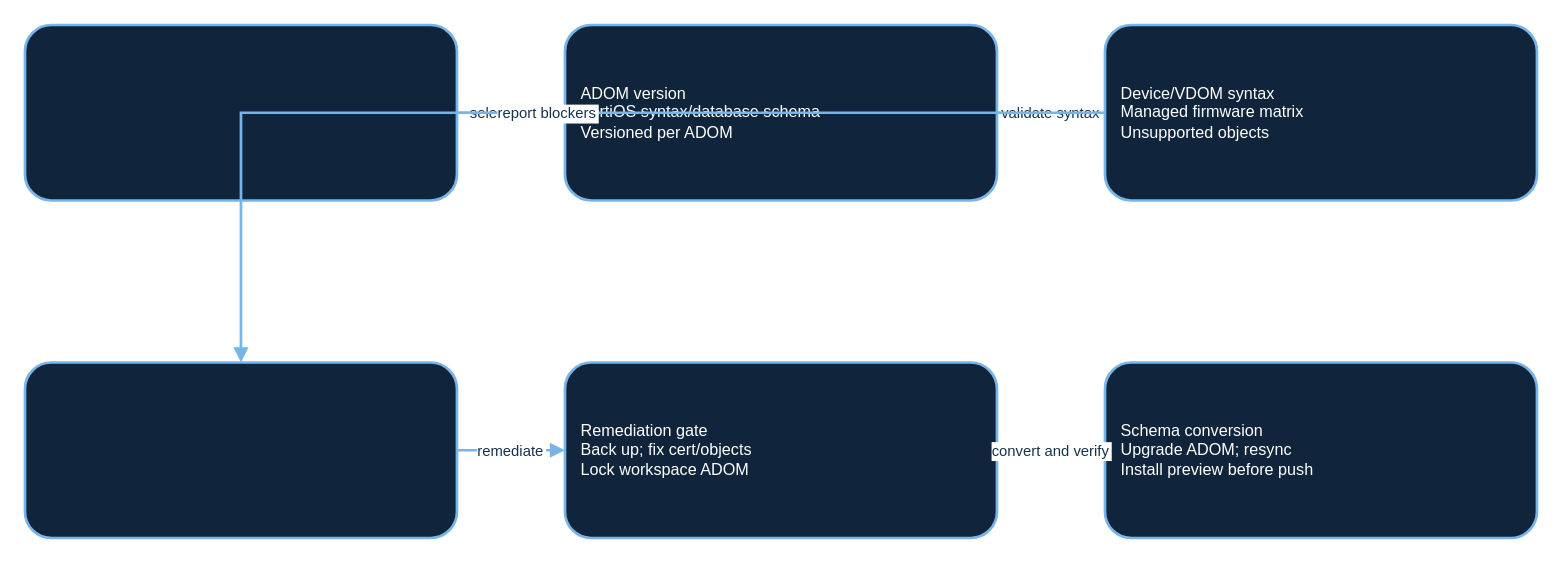
Some shapes in this 1561 by 562 pixel diagram are drawn without their labels. The centre of each missing label's shape, as x and y in pixels:
"FortiManager firmware Manager release level Does not set ADOM schema" goes at point (240, 112).
"Readiness report Compatibility blockers No automatic repair" goes at point (240, 449).
